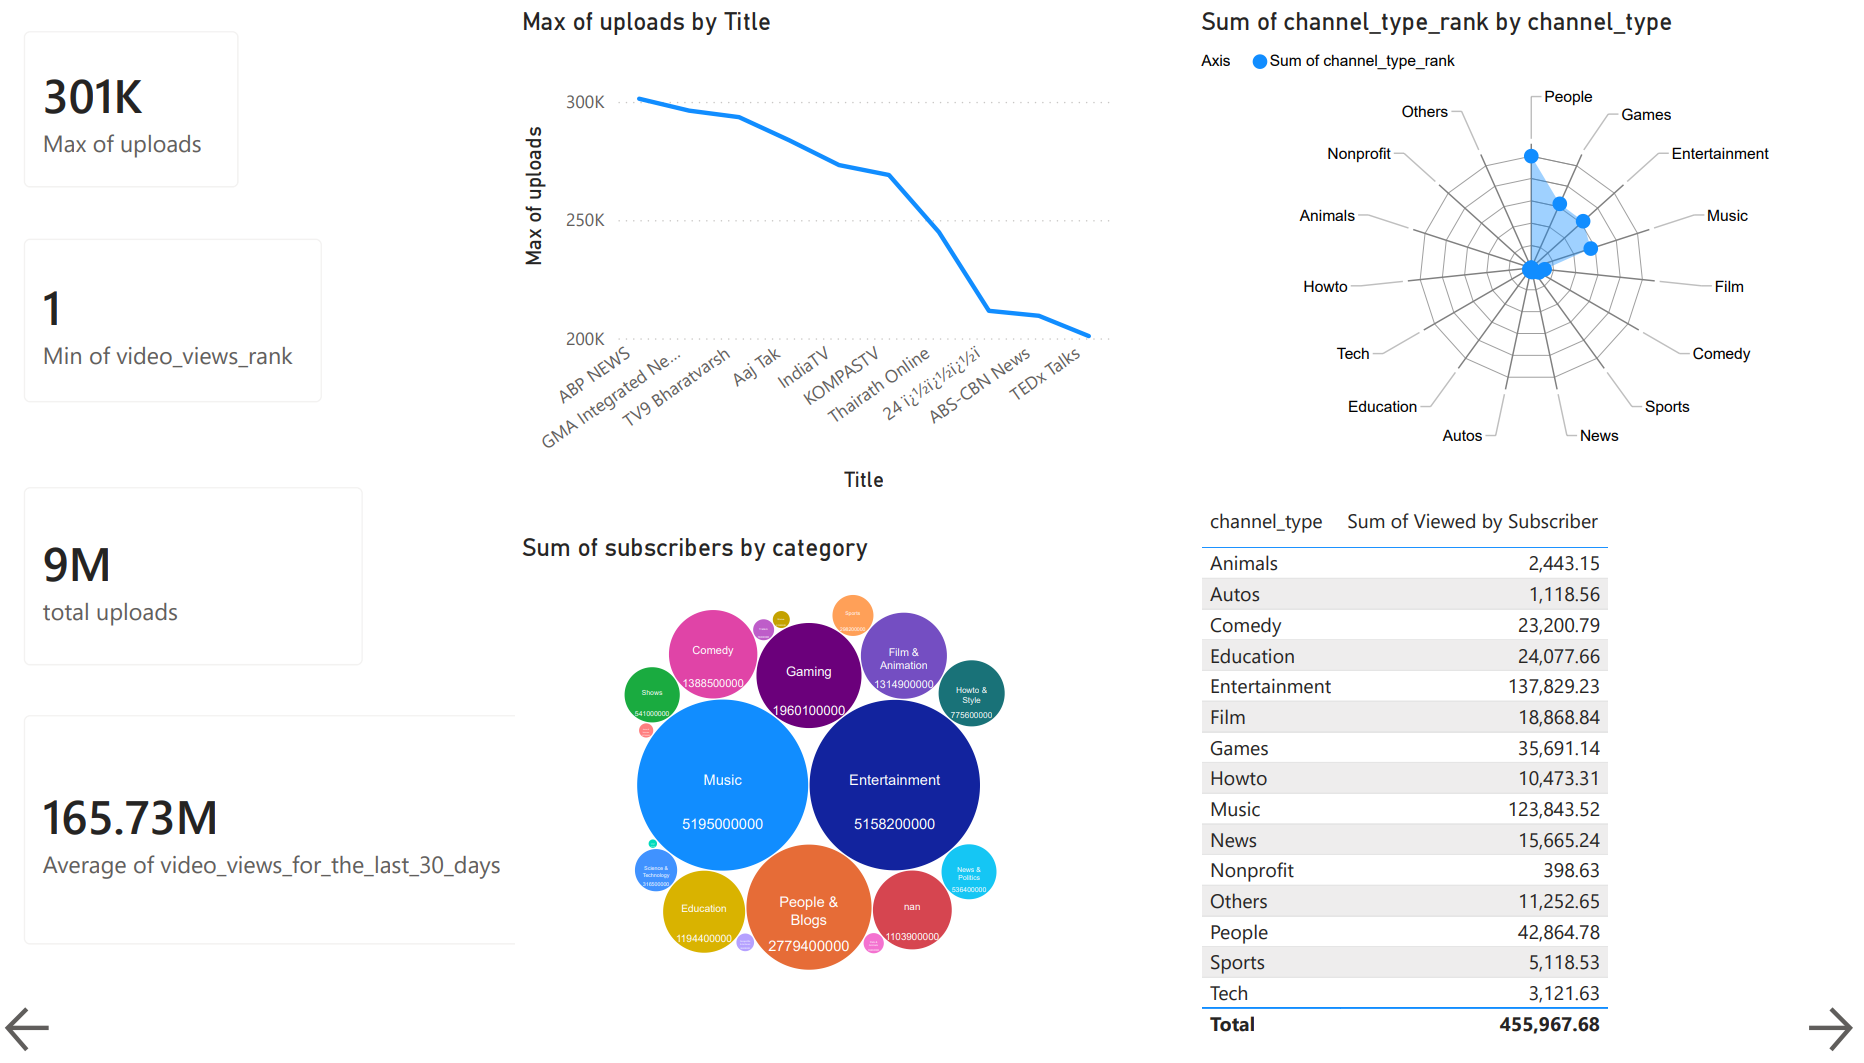

This screenshot's page, from the dashboard's own definition file:
{"tool":"powerbi","page":{"name":"Page 1","canvas":[1280,720],"ordinal":1},"visuals":[{"type":"cardVisual","fields":{"Data":["Max(Global YouTube Statistics.uploads)"]},"box":[0,0,181.7,141.7],"z":0},{"type":"cardVisual","fields":{"Data":["Min(Global YouTube Statistics.video_views_rank)"]},"box":[0,141.7,238.3,146.7],"z":1000},{"type":"cardVisual","fields":{"Data":["Avg(Global YouTube Statistics.video_views_for_the_last_30_days)"]},"box":[0,468.3,376.7,191.7],"z":2000},{"type":"lineChart","fields":{"Category":["Global YouTube Statistics.Title"],"Y":["Max(Global YouTube Statistics.uploads)"]},"box":[353.3,0,411.7,336.7],"z":3000},{"type":"RadarChart1446119667547","fields":{"Category":["Global YouTube Statistics.channel_type"],"Y":["Sum(Global YouTube Statistics.channel_type_rank)"]},"box":[818.3,0,461.7,311.7],"z":4000},{"type":"PackedBubbleChart","fields":{"category":["Global YouTube Statistics.category"],"measure":["Sum(Global YouTube Statistics.subscribers)"]},"box":[353.3,360,411.7,321.7],"z":5000},{"type":"tableEx","fields":{"Values":["Global YouTube Statistics.channel_type","Sum(Global YouTube Statistics.Viewed by Subscriber)"]},"box":[818.3,336.7,295,383.3],"z":6000},{"type":"cardVisual","fields":{"Data":["Global YouTube Statistics.total uploads"]},"box":[0,311.7,266.7,156.7],"z":7000},{"type":"actionButton","box":[0,680,68.3,40],"z":7001},{"type":"actionButton","box":[1233.3,680,46.7,40],"z":7002}]}

Visuals, with their boxes in screenshot pixels (x1, y1, x2, y2), scaled from the page's 1280x720 canvas onto the 1864x1063 screenshot:
cardVisual - Max(Global YouTube Statistics.uploads): 0, 0, 265, 209
cardVisual - Min(Global YouTube Statistics.video_views_rank): 0, 209, 347, 426
cardVisual - Avg(Global YouTube Statistics.video_views_for_the_last_30_days): 0, 691, 549, 974
lineChart - Global YouTube Statistics.Title x Max(Global YouTube Statistics.uploads): 514, 0, 1114, 497
RadarChart1446119667547 - Global YouTube Statistics.channel_type x Sum(Global YouTube Statistics.channel_type_rank): 1192, 0, 1863, 460
PackedBubbleChart - Global YouTube Statistics.category x Sum(Global YouTube Statistics.subscribers): 514, 532, 1114, 1006
tableEx - Global YouTube Statistics.channel_type x Sum(Global YouTube Statistics.Viewed by Subscriber): 1192, 497, 1621, 1062
cardVisual - Global YouTube Statistics.total uploads: 0, 460, 388, 692
actionButton: 0, 1004, 99, 1062
actionButton: 1796, 1004, 1863, 1062
